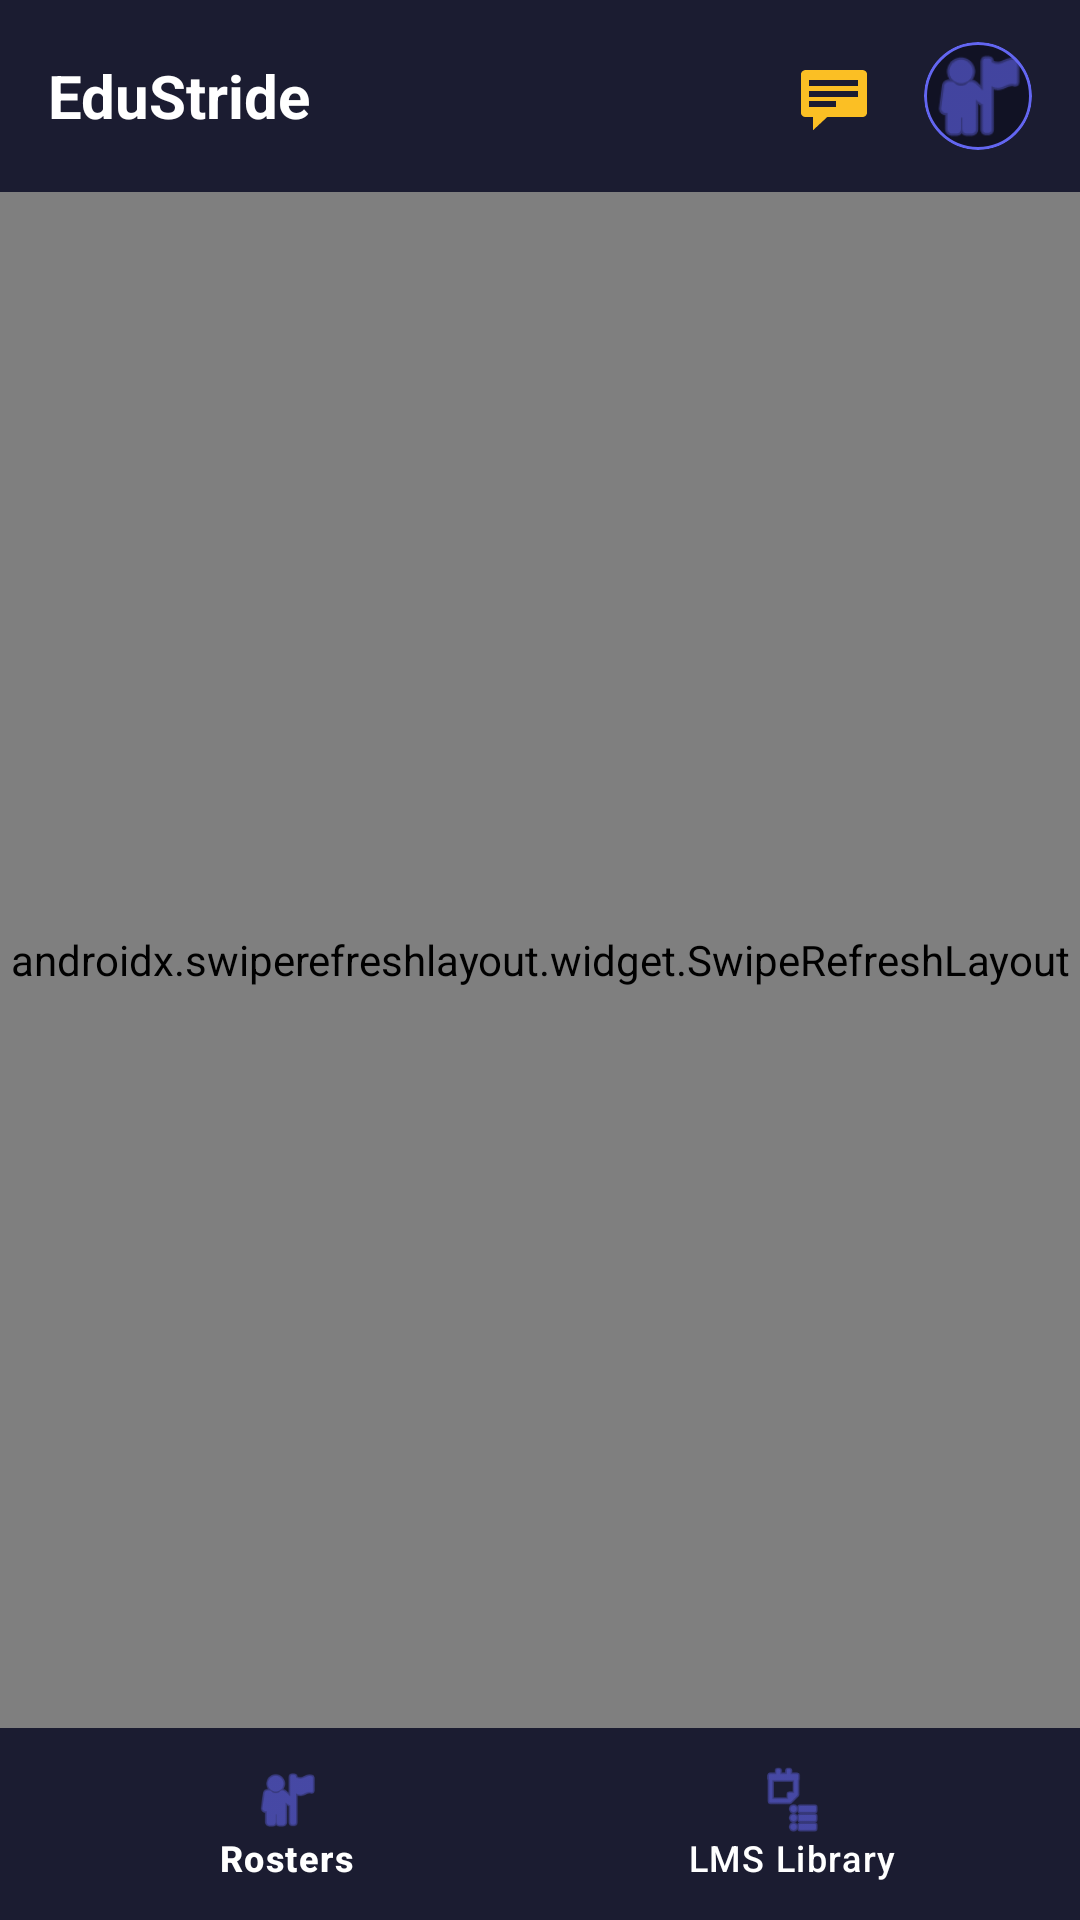

Screen size 1080 x 1920. Icon name, then its box in pixels as (x1, y1, x2, y2):
chat: (801, 70, 867, 130)
